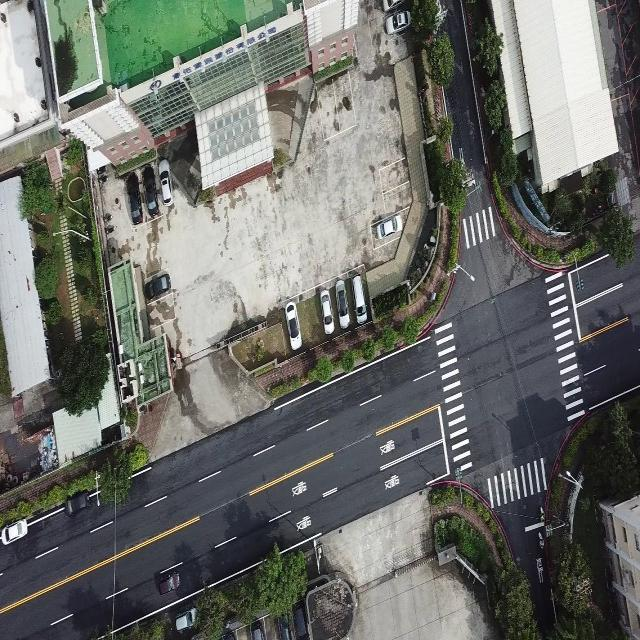car: (121, 171, 143, 232), (138, 154, 158, 220), (0, 519, 34, 554), (373, 214, 409, 247), (141, 270, 176, 298), (284, 301, 302, 350), (169, 609, 205, 633), (334, 279, 350, 329), (351, 275, 367, 324), (385, 9, 411, 35), (158, 158, 172, 205), (320, 289, 334, 334)
